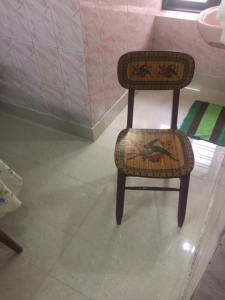chair: (113, 49, 196, 228)
